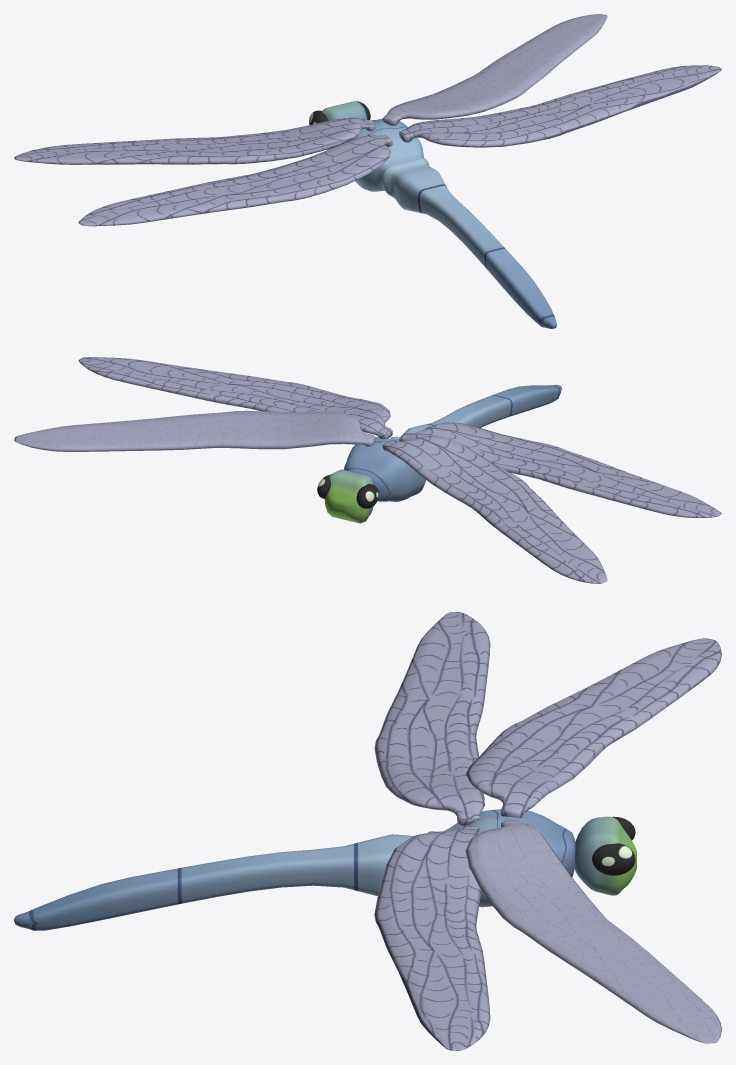
Rendered from Dragonfly.fbx.
3 renders of one model, top to bottom at view 1: azimuth 30°, elevation 25°; view 2: azimuth 150°, elevation 25°; view 3: azimuth 270°, elevation 25°, orthographic. The views are drawn at different scales.
Visible parts, largest first — view 1: DF_EyeR; view 2: DF_EyeR; view 3: DF_EyeR.
Part boxes in pixels (x1,y1,x2,y2): DF_EyeR: (14,14,721,328); DF_EyeR: (14,357,721,583); DF_EyeR: (14,612,721,1050).
Bounding box in the file's own units: 2.7 × 0.349 × 1.84.
